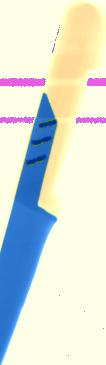Knife: (1, 2, 105, 365)
